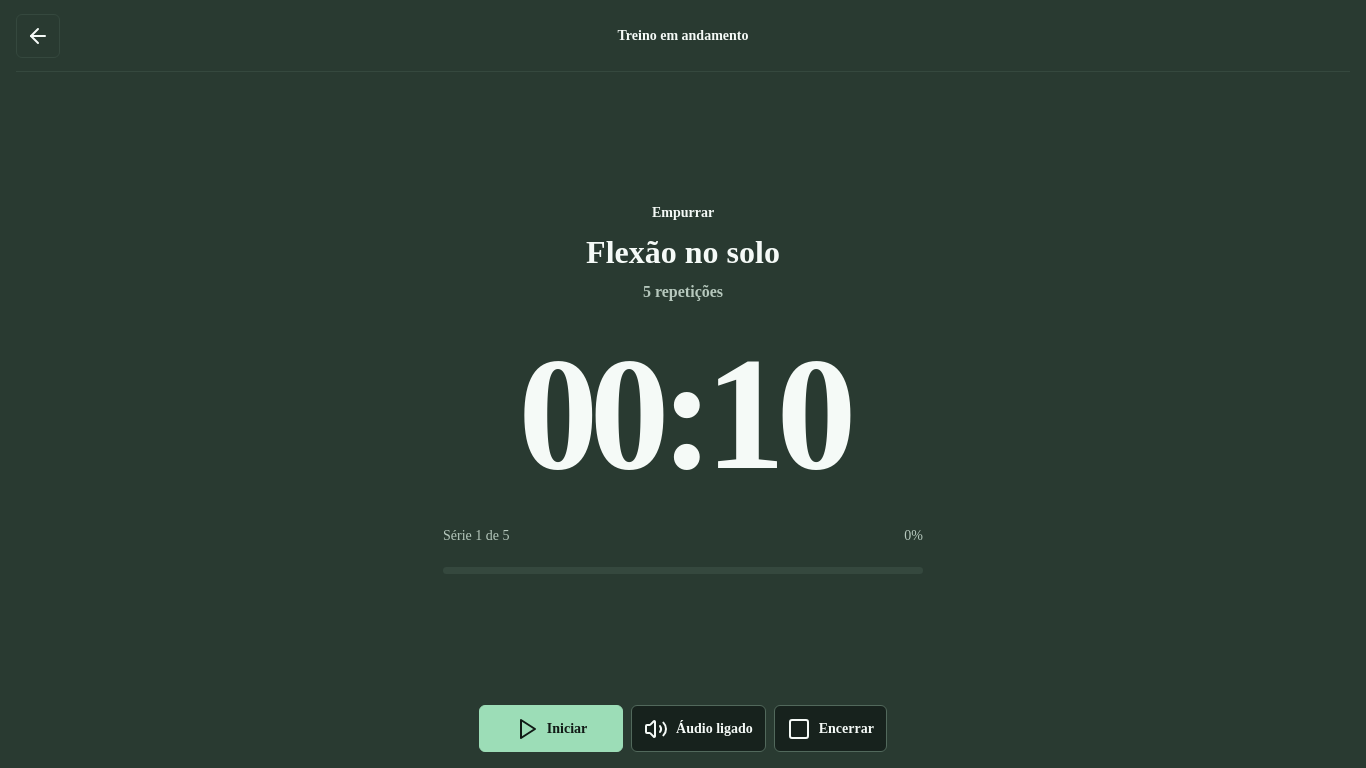
WorkoutTimer › inicia uma contagem em cada troca sem duplicar no tick da virada
Click the button "Iniciar": (551, 729) [479,705,623,752]
Wait 70000 ms
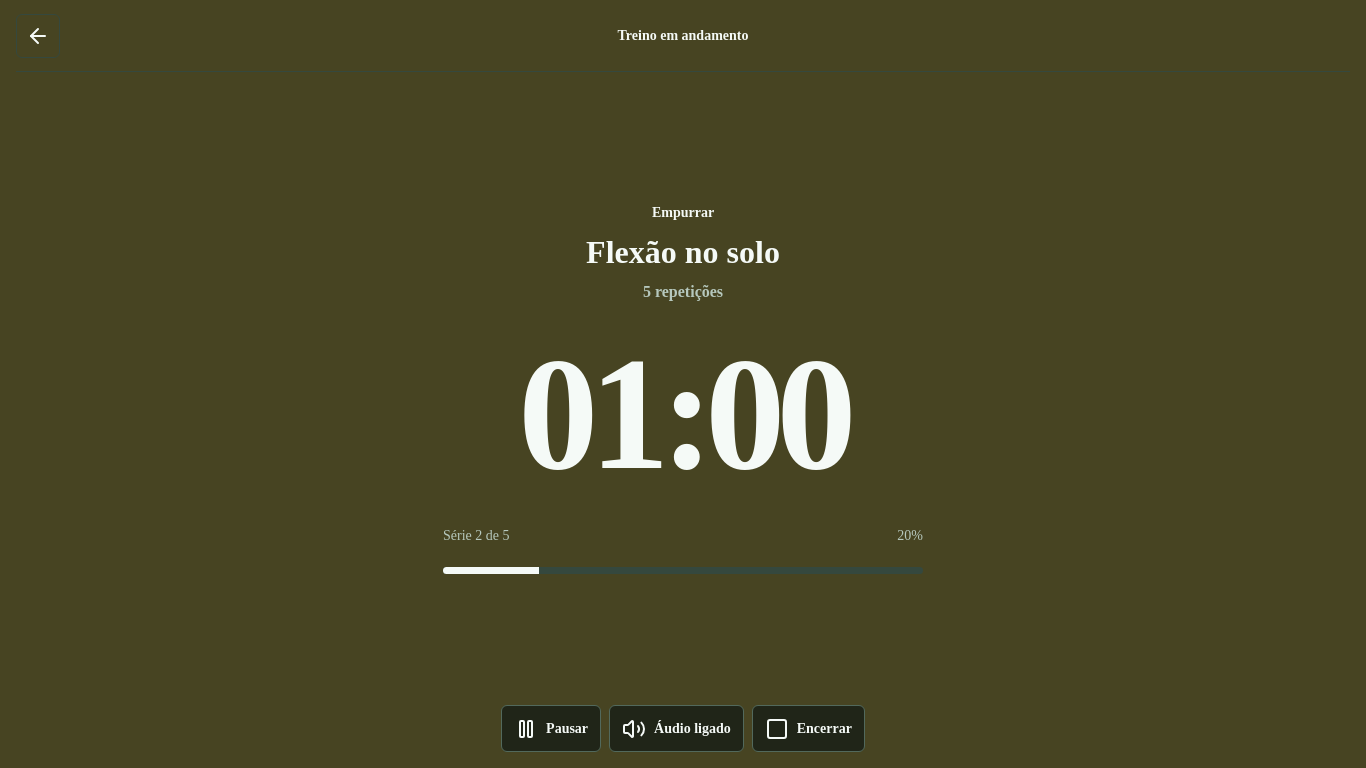
Now the text "Série 2 de 5" is shown, box [443,524,510,546]
Now the element named "60 segundos" reads "01:00", box [518,325,848,503]
